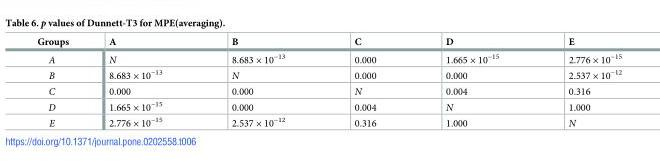table: (36, 36, 621, 129)
table column: (196, 36, 319, 129), (410, 36, 533, 129), (88, 36, 196, 129), (319, 36, 410, 129), (533, 36, 621, 129), (36, 36, 88, 129)
table row: (36, 49, 621, 66), (36, 66, 621, 83), (36, 98, 621, 114), (36, 83, 621, 98), (36, 114, 621, 129), (36, 36, 621, 49)
